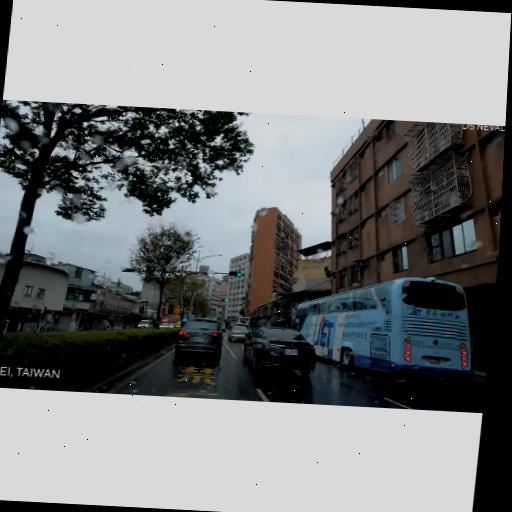Car: (283, 266, 490, 382), (243, 322, 318, 380), (173, 316, 223, 362), (228, 322, 251, 344), (227, 314, 251, 332), (136, 315, 154, 333)
